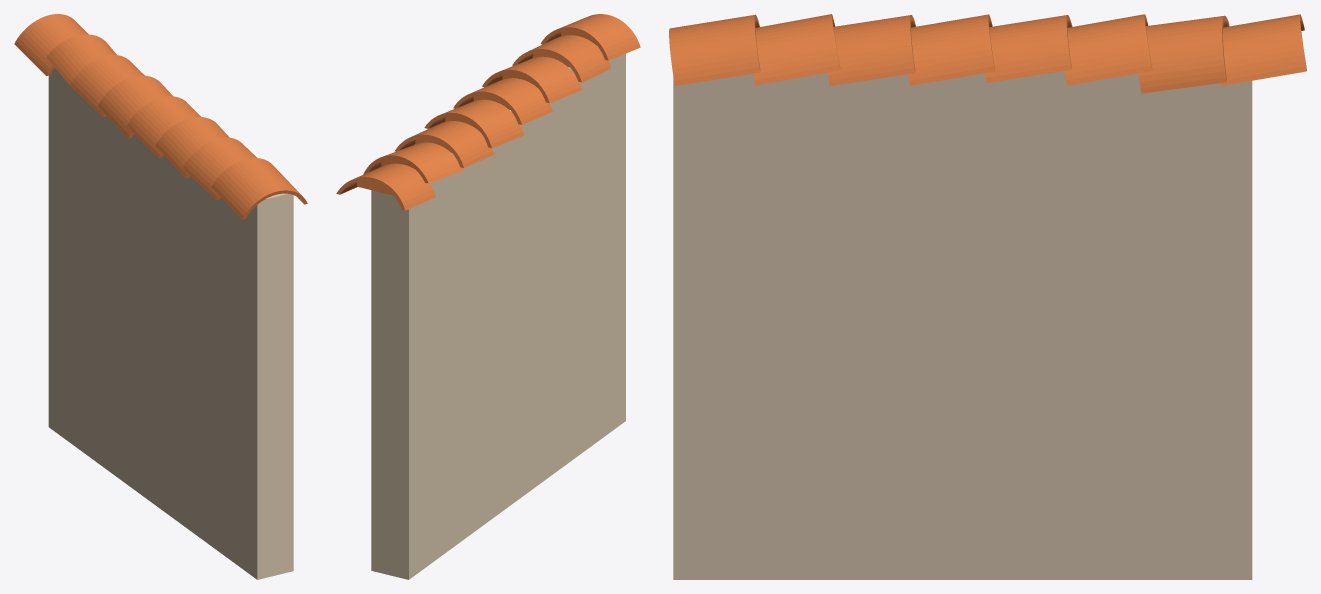
The model's file is spanish_villa_wall_01.glb.
3 views of the same model, side by side, from view 1: azimuth 30°, elevation 25°; view 2: azimuth 150°, elevation 25°; view 3: azimuth 270°, elevation 25° (orthographic). The views are drawn at different scales.
Visible parts, largest first — view 1: Cube, Cylinder, Cylinder.004, Cylinder.007, Cylinder.003, Cylinder.001, Cylinder.005, Cylinder.002, Cylinder.006; view 2: Cube, Cylinder.007, Cylinder.004, Cylinder.002, Cylinder, Cylinder.003, Cylinder.005, Cylinder.001, Cylinder.006; view 3: Cube, Cylinder.006, Cylinder, Cylinder.003, Cylinder.005, Cylinder.007, Cylinder.002, Cylinder.001, Cylinder.004.
Part boxes in pixels (box(x1,y1,x2,y2)): Cube: box(48, 68, 293, 579); Cylinder: box(211, 158, 307, 219); Cylinder.004: box(98, 75, 172, 138); Cylinder.007: box(14, 14, 88, 75); Cylinder.003: box(127, 96, 200, 158); Cylinder.001: box(182, 137, 256, 200); Cylinder.005: box(70, 55, 144, 117); Cylinder.002: box(155, 117, 229, 178); Cylinder.006: box(46, 34, 116, 90); Cube: box(371, 53, 625, 579); Cylinder.007: box(336, 163, 435, 210); Cylinder.004: box(424, 99, 523, 148); Cylinder.002: box(482, 56, 582, 103); Cylinder: box(540, 14, 640, 60); Cylinder.003: box(453, 78, 552, 124); Cylinder.005: box(395, 121, 493, 167); Cylinder.001: box(512, 35, 610, 82); Cylinder.006: box(363, 142, 463, 183); Cube: box(673, 71, 1252, 579); Cylinder.006: box(1138, 15, 1229, 93); Cylinder: box(669, 14, 760, 85); Cylinder.003: box(908, 14, 995, 85); Cylinder.005: box(1064, 14, 1152, 85); Cylinder.007: box(1221, 14, 1306, 85); Cylinder.002: box(828, 15, 915, 86); Cylinder.001: box(753, 14, 840, 85); Cylinder.004: box(984, 15, 1072, 83).
Size of the model in its own units: 0.3893 by 2.09 by 2.2.
